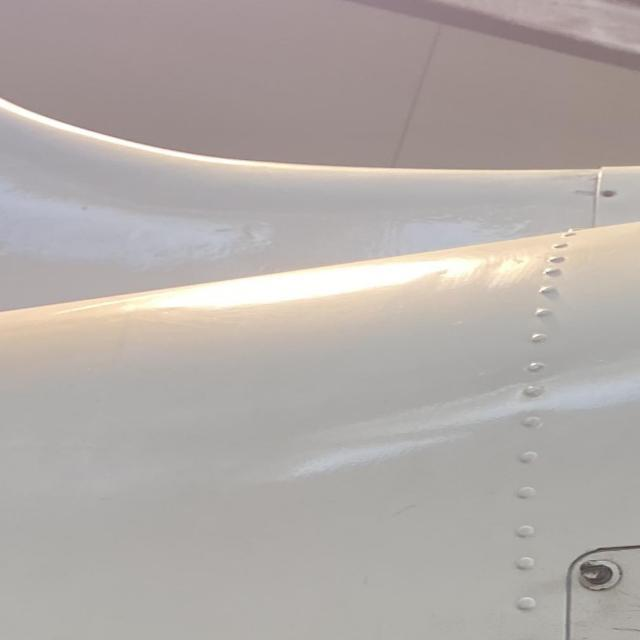Paint-off: (569, 187, 595, 199), (598, 185, 619, 199)
